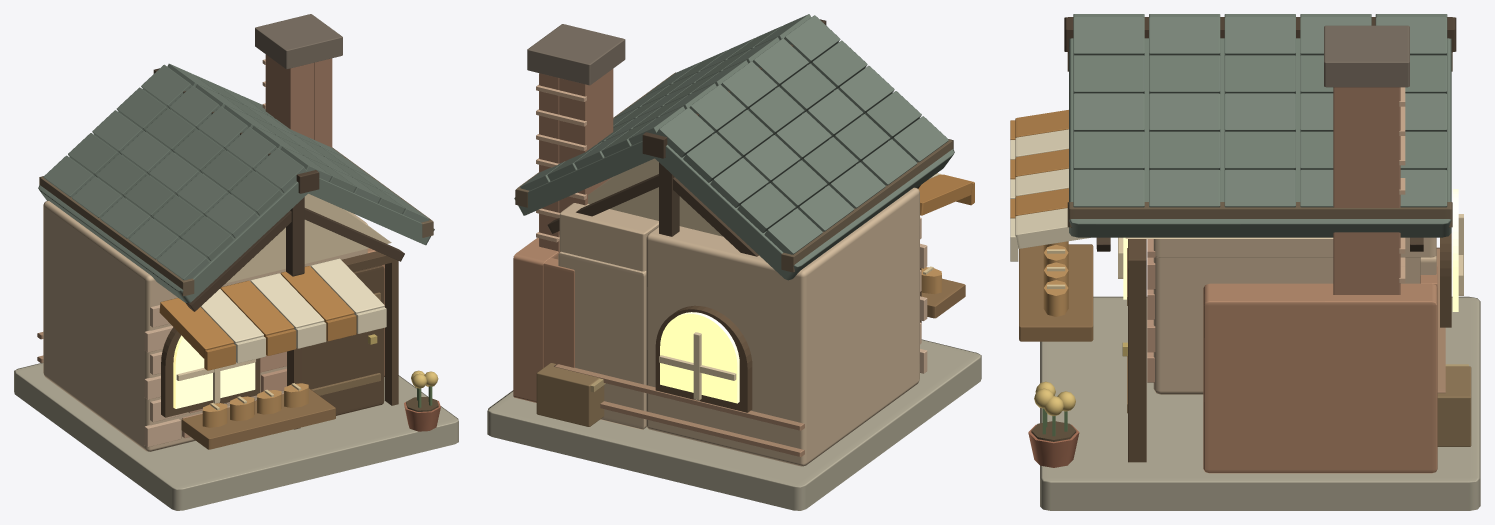
Rendered from bakery-2.glb.
3 renders of one model, left to right at view 1: azimuth 30°, elevation 25°; view 2: azimuth 150°, elevation 25°; view 3: azimuth 270°, elevation 25°, orthographic. The views are drawn at different scales.
Parts seen in each view (by area): view 1: bakery-2-0, door-hinge; view 2: bakery-2-0; view 3: bakery-2-0.
Part boxes in pixels (box(x1,y1,x2,y2)): bakery-2-0: box(14, 14, 458, 510); door-hinge: box(300, 265, 384, 415); bakery-2-0: box(487, 14, 981, 510); bakery-2-0: box(1010, 14, 1480, 510).
Size of the model in its own units: 1.9 by 2.1 by 2.03.
